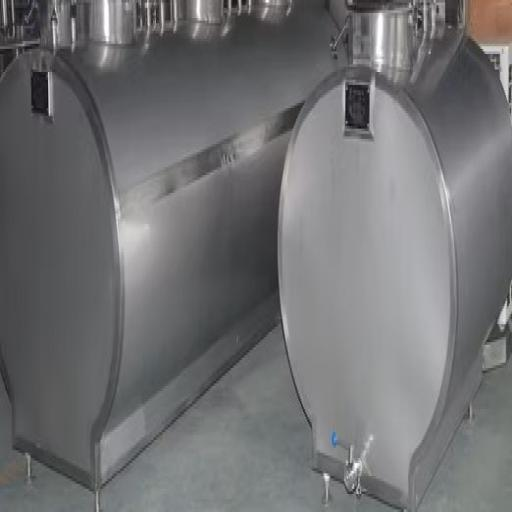silo: (0, 0, 348, 484), (276, 4, 511, 509)
